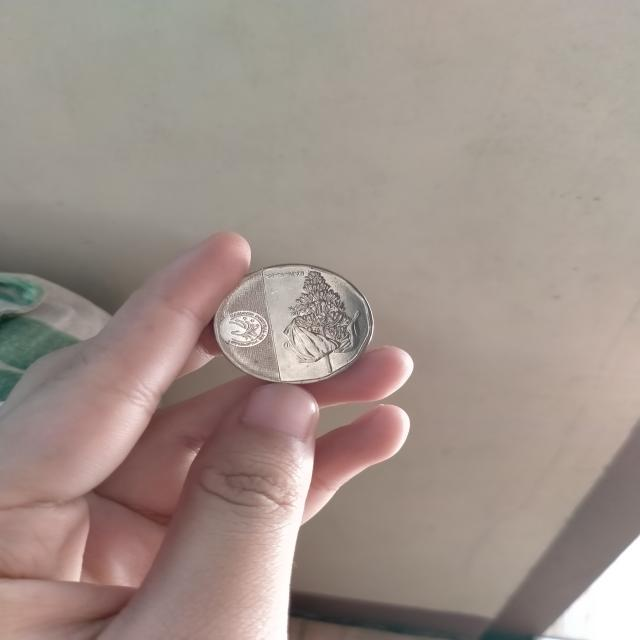10_New_Back: (282, 265, 370, 383)
